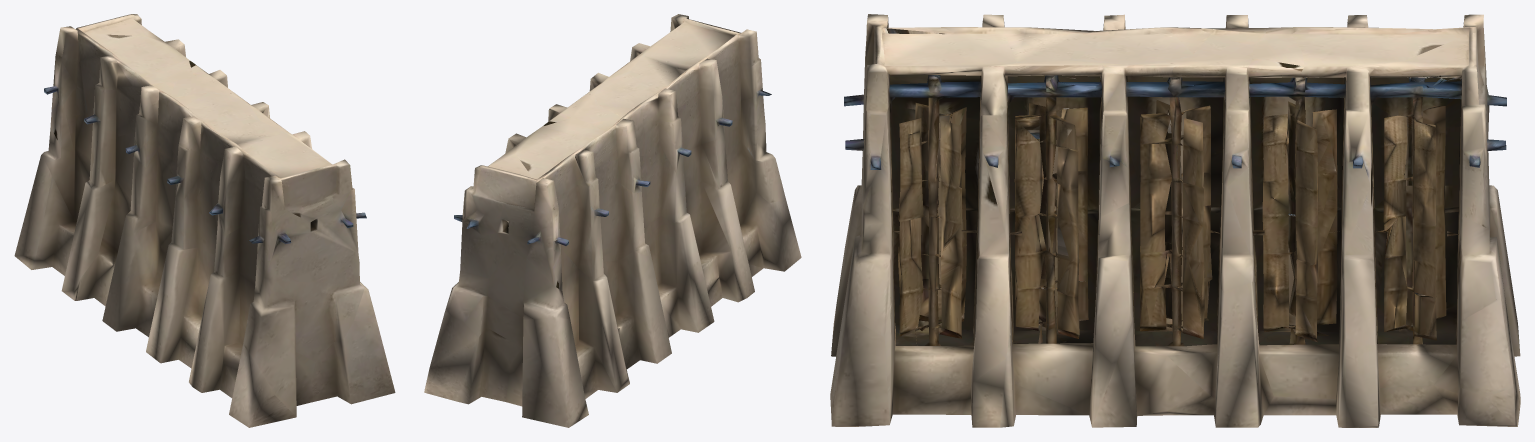
The model's file is windmill_asbad_1.glb.
The picture shows the model from 3 angles, left to right: view 1: azimuth 30°, elevation 25°; view 2: azimuth 150°, elevation 25°; view 3: azimuth 270°, elevation 25°; orthographic projection. The views are drawn at different scales.
Visible parts, largest first — view 1: windmill_asbad_1; view 2: windmill_asbad_1; view 3: windmill_asbad_1.
Part boxes in pixels (x1,y1,x2,y2): windmill_asbad_1: (14, 14, 395, 427); windmill_asbad_1: (424, 14, 801, 427); windmill_asbad_1: (830, 14, 1520, 427).
Bounding box in the file's own units: 0.3548 × 0.5202 × 0.9768.
1 material, 1 textured.
